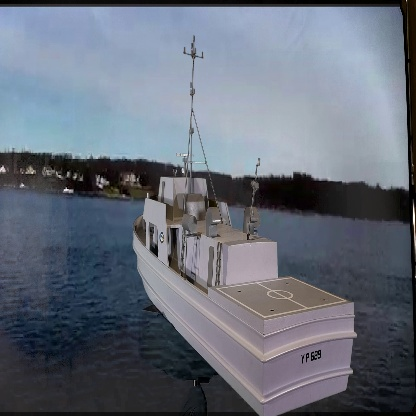YP689: (132, 35, 357, 416)
